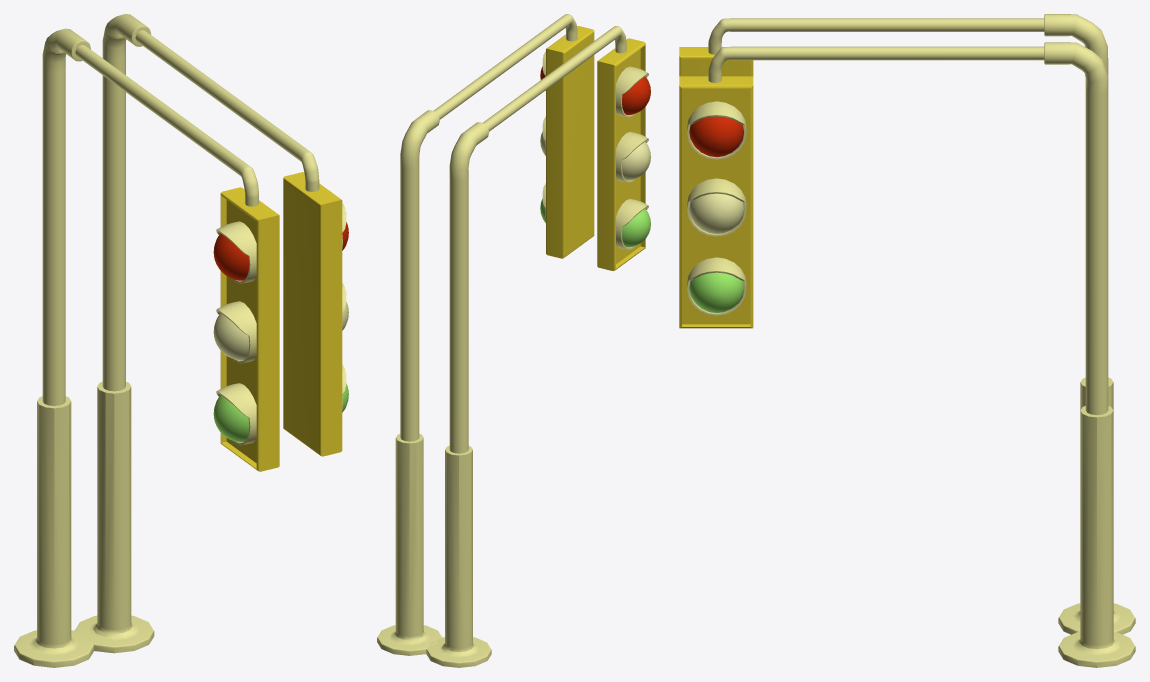
Rendered from TrafficLight.fbx.
3 renders of one model, left to right at view 1: azimuth 30°, elevation 25°; view 2: azimuth 150°, elevation 25°; view 3: azimuth 270°, elevation 25°, orthographic. The views are drawn at different scales.
Visible parts, largest first — view 1: trafficlight4; view 2: trafficlight4; view 3: trafficlight4.
Boxes of the visible parts, box(x1,y1,x2,y2) form: trafficlight4: box(14, 14, 348, 667); trafficlight4: box(377, 14, 650, 667); trafficlight4: box(679, 14, 1135, 667).
Size of the model in its own units: 61.76 by 287 by 195.
